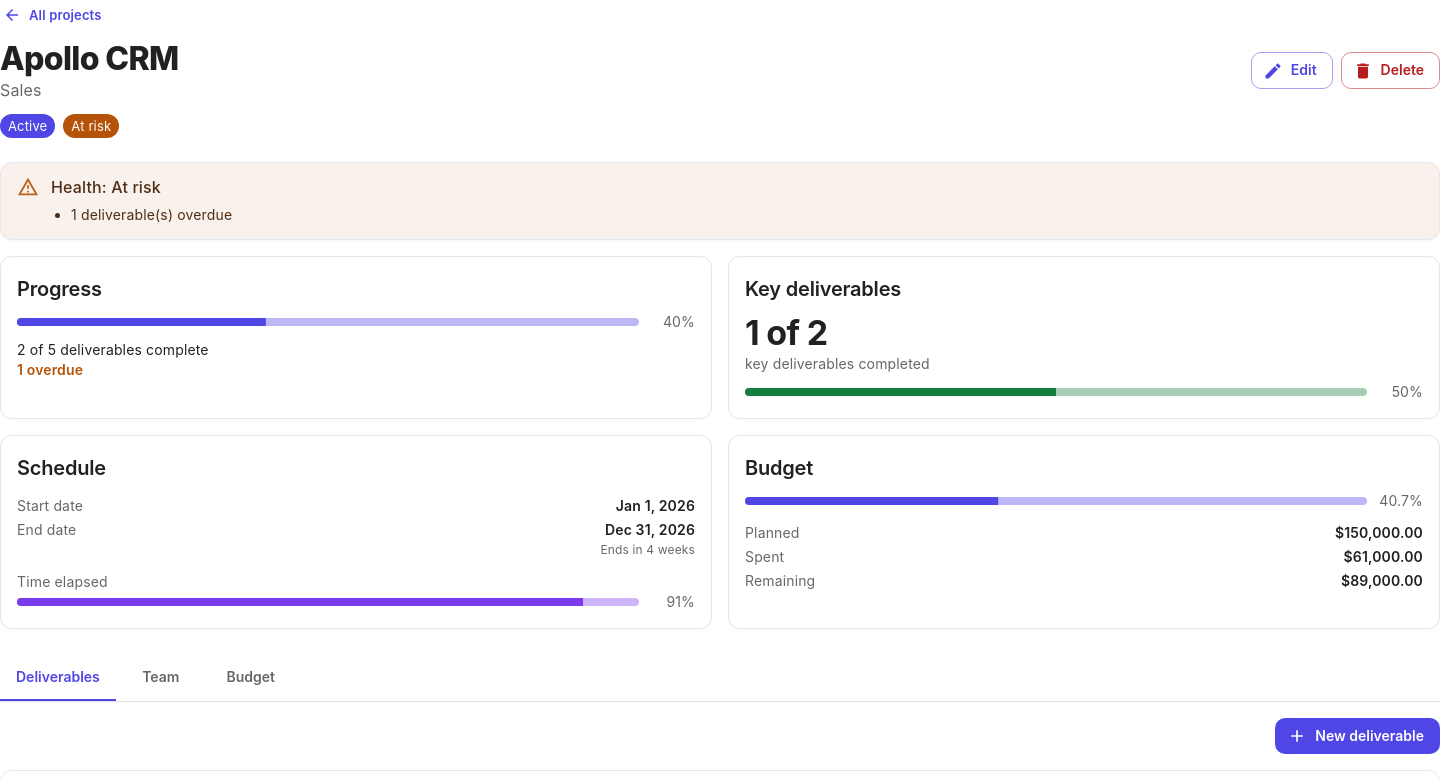
Test case: ProjectDetailPage › edits the project and shows the updated details
Click the button "Edit" at (1292, 71), box [1251,52,1333,89]
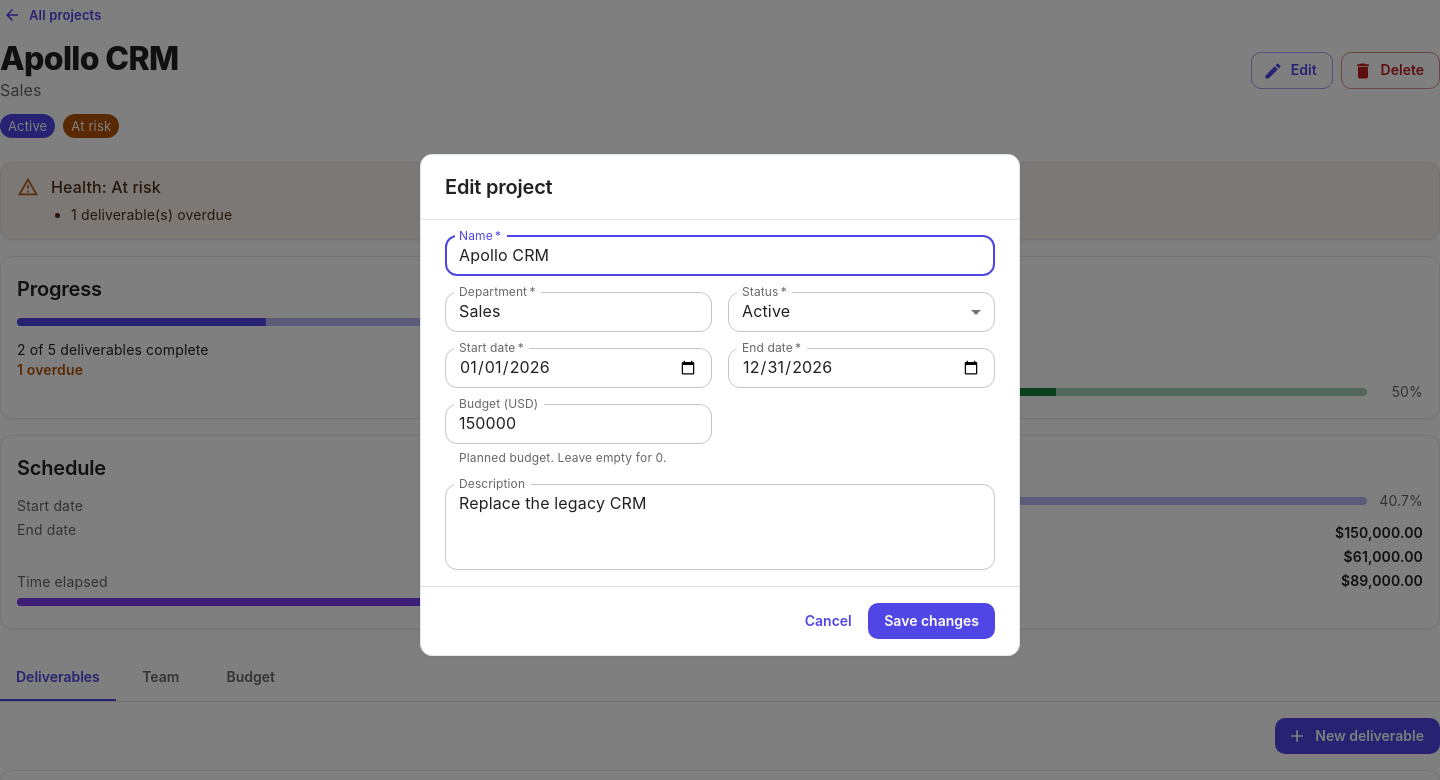
Replace the text in the field labelled "Name *" with "Apollo CRM 2" at (720, 256), box [445,236,995,276]
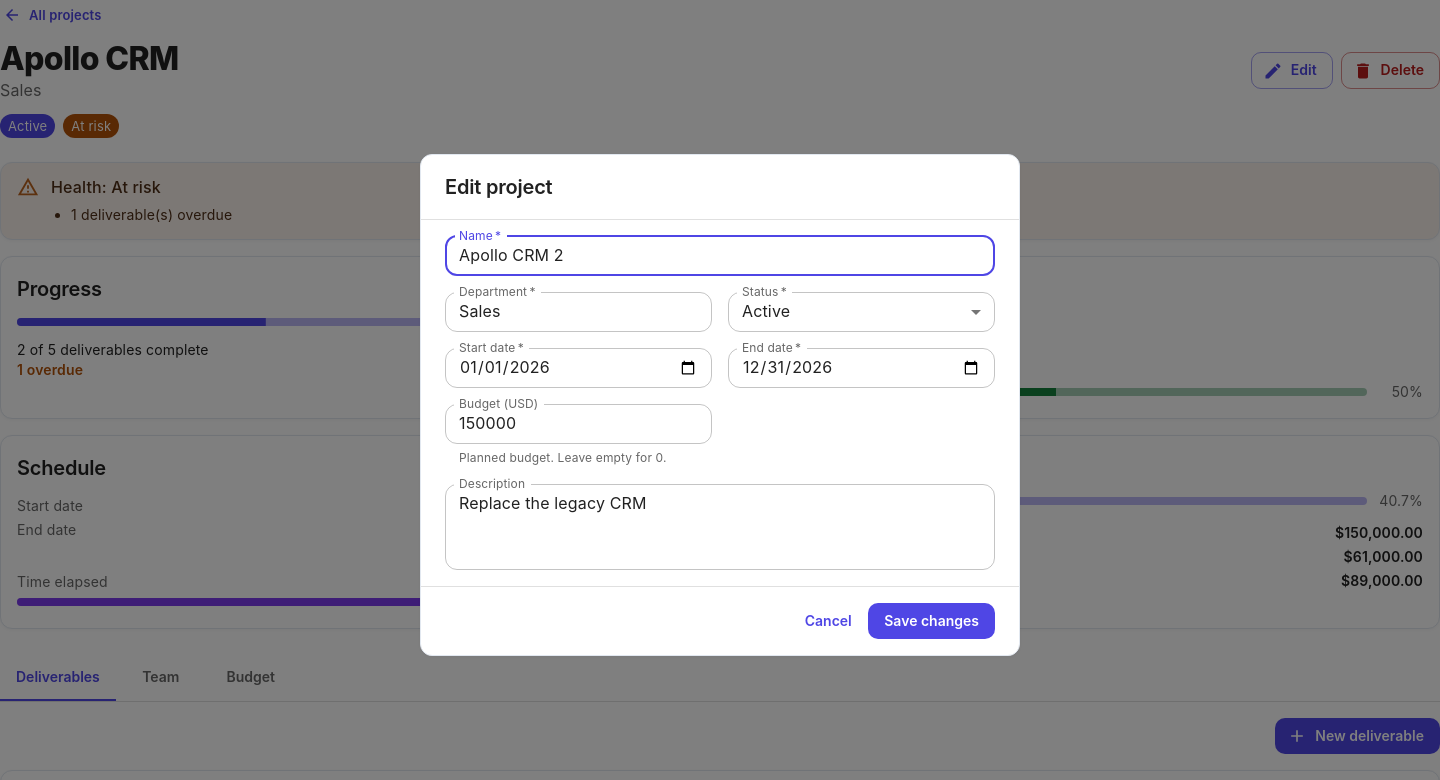
Click the button "Save changes" at (932, 621), box [868,603,995,639]
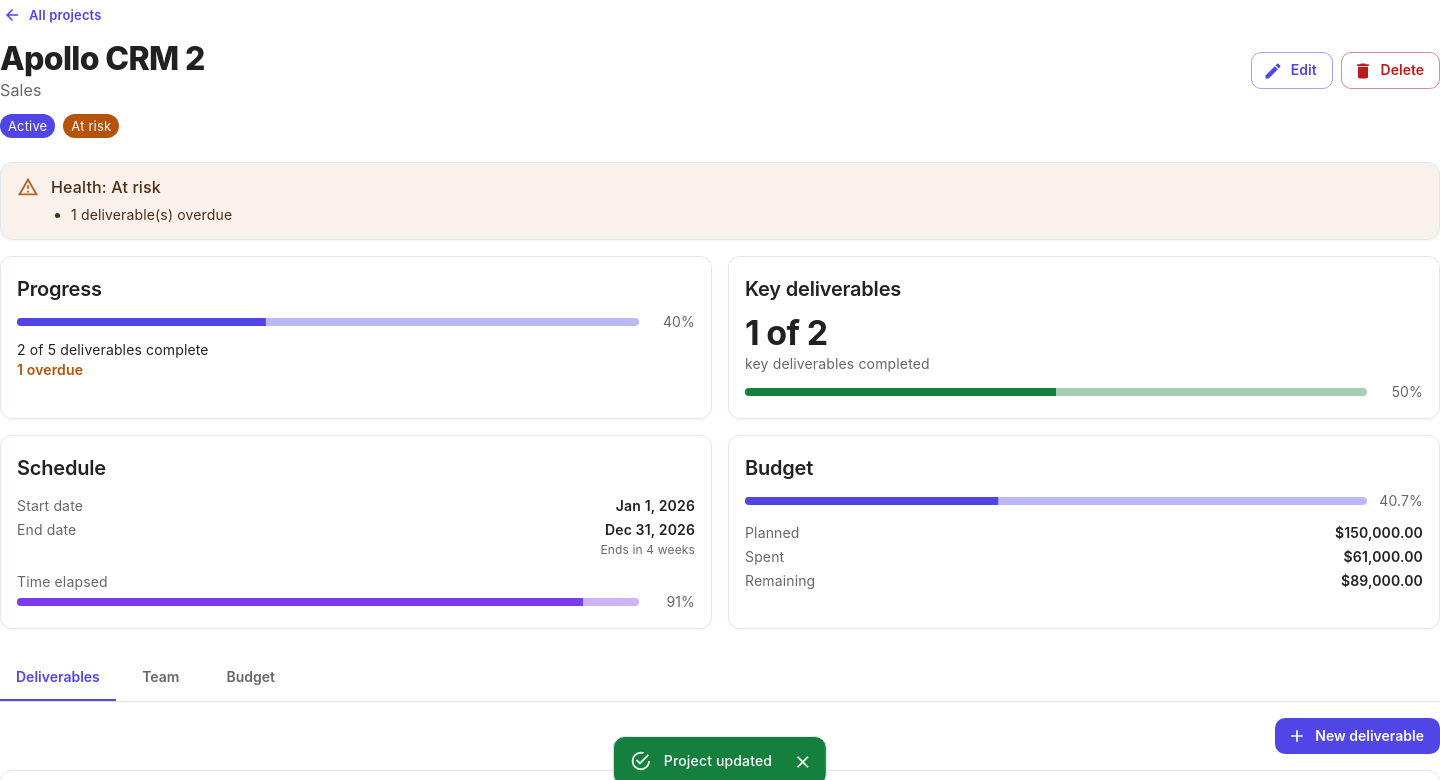
Now the text "Project updated" is shown, box [664,752,772,769]
Now the heading "Apollo CRM 2" is shown, box [0,39,205,78]
